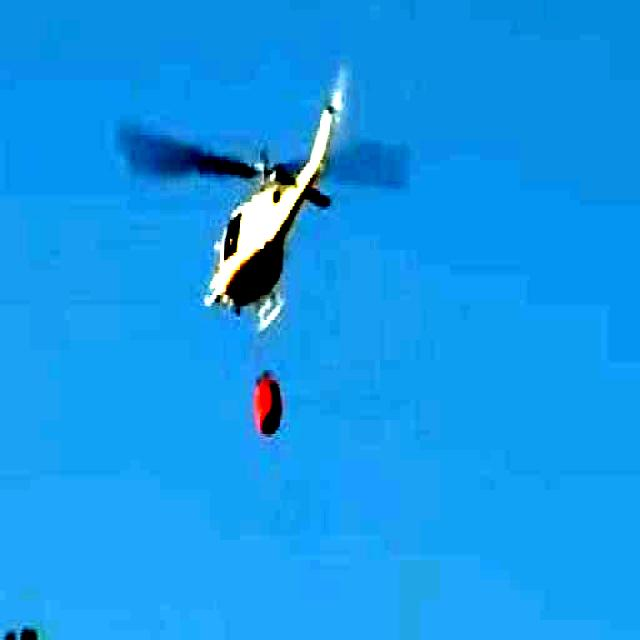drone: (151, 78, 394, 329)
